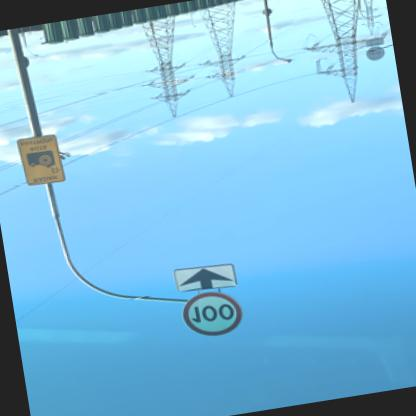speedlimit: (178, 290, 244, 342)
